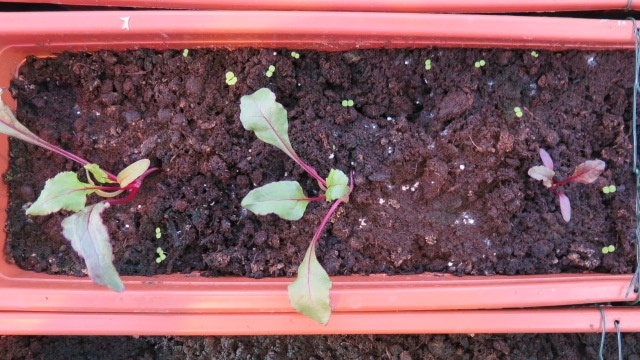crop: (237, 91, 358, 325), (18, 115, 151, 293), (526, 148, 607, 224)
weed: (222, 69, 240, 87), (263, 63, 279, 78), (155, 248, 170, 264), (510, 104, 527, 118), (336, 98, 357, 108), (599, 183, 618, 194), (470, 59, 490, 69), (598, 244, 616, 255), (422, 58, 434, 72), (526, 48, 542, 58), (180, 47, 192, 58), (154, 226, 164, 239), (288, 50, 302, 58)
